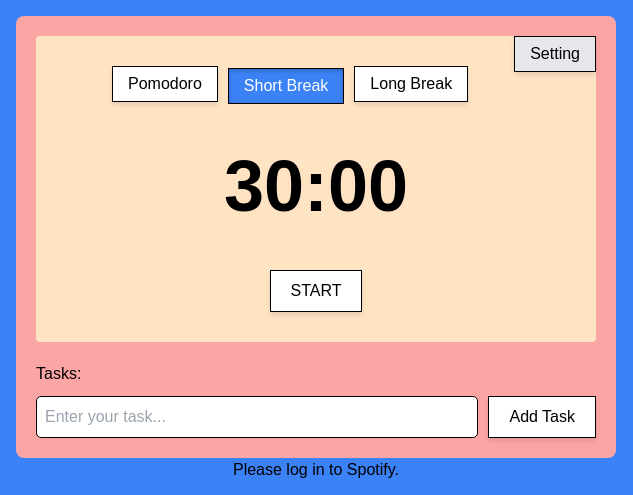
Timer Component › timer starts when clicking start
Click the button "START". click: x=316, y=291
box: [270, 270, 362, 312]
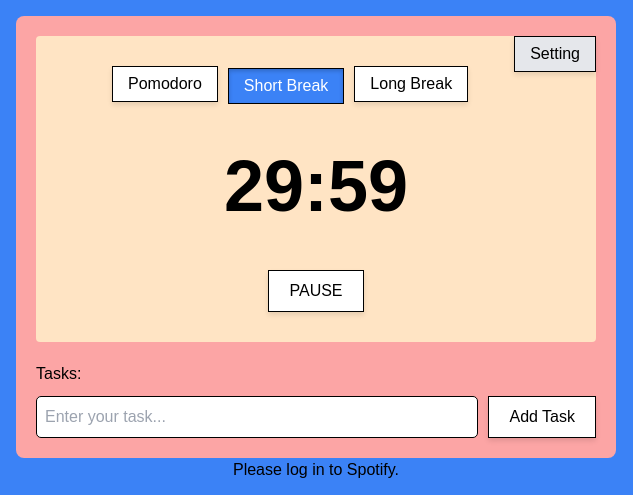
Now the button "PAUSE" is shown, box [268, 270, 364, 312]
